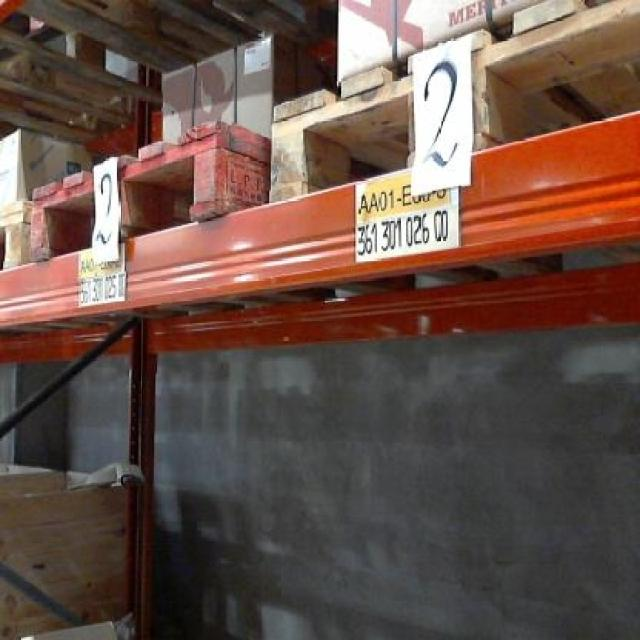pallets: (0, 463, 138, 637)
